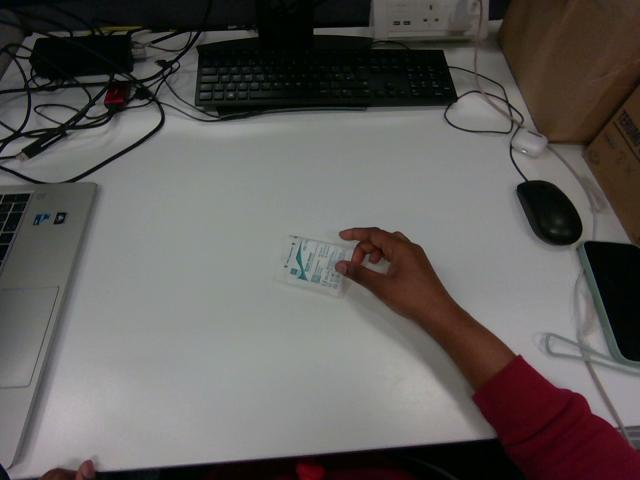gauze: (276, 235, 352, 296)
